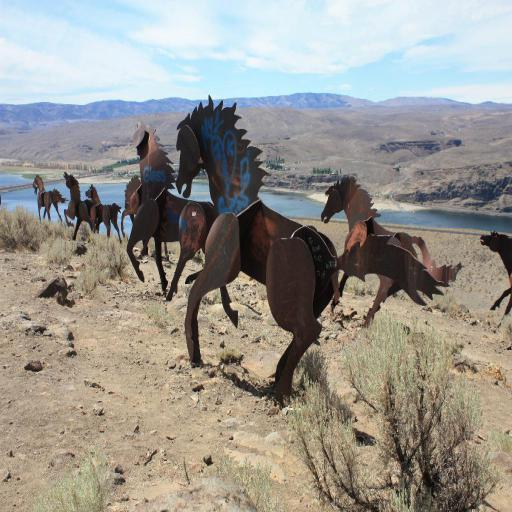Horse: (174, 92, 451, 404), (318, 172, 461, 330), (122, 118, 218, 299), (124, 169, 169, 260), (478, 234, 512, 328), (30, 169, 69, 231), (86, 181, 122, 244), (64, 175, 98, 240)
